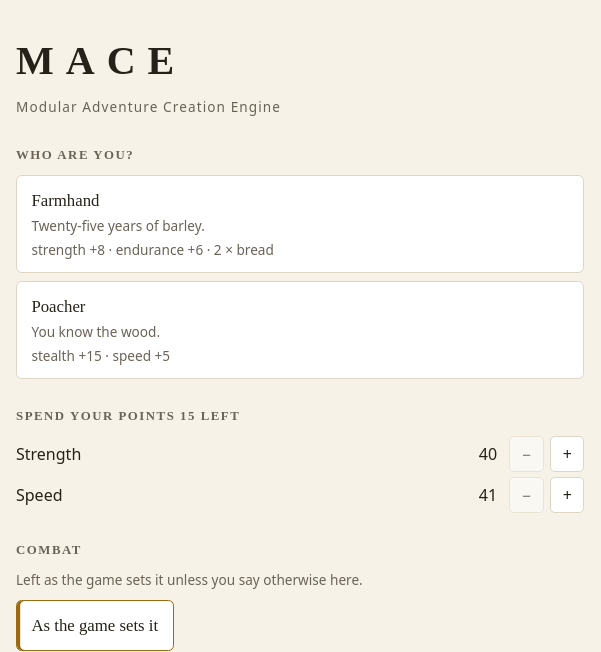
the opening › says so when the service will not open a session
Click the button "Farmhand": (65, 200) [16,175,584,273]
(page scrolled)
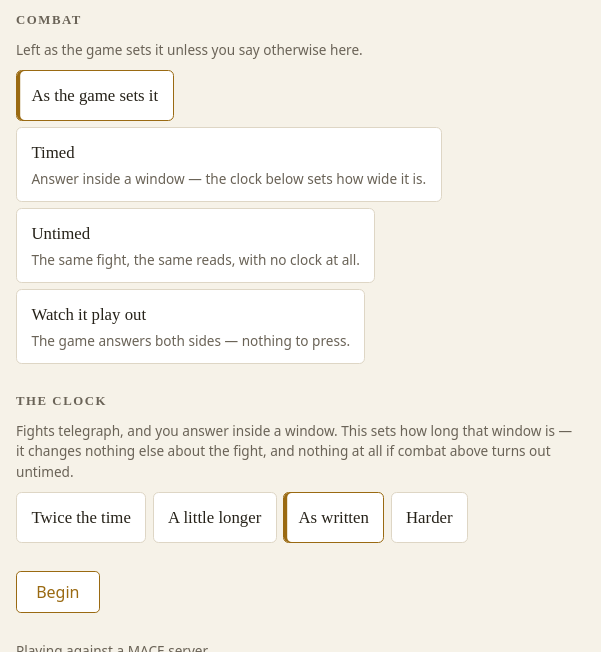
Click the button "Begin": (58, 592) [16,571,100,613]
(page scrolled)
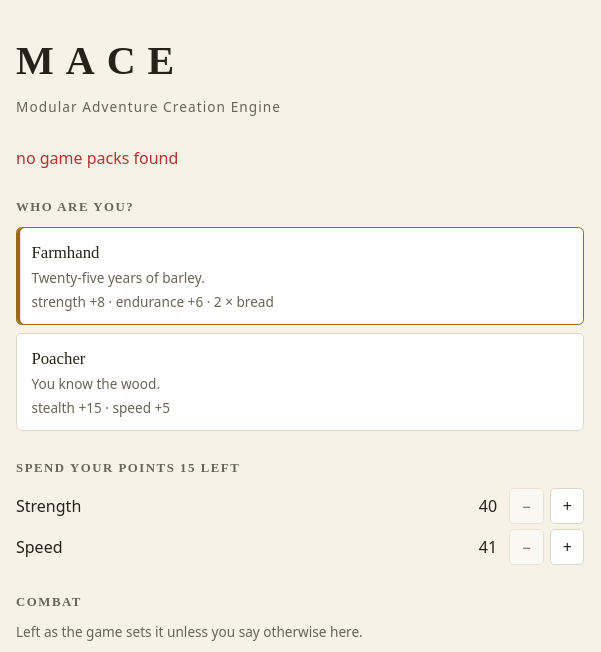
Expected: the text "no game packs found" is shown, [16,147,178,169]
